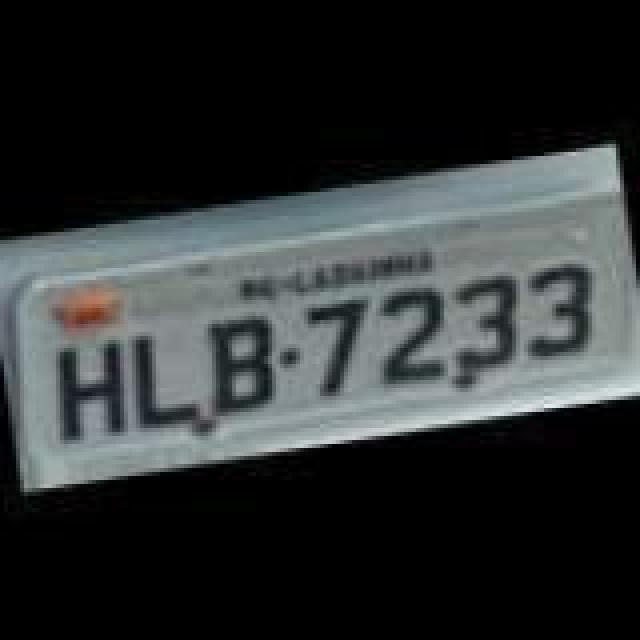2: (372, 284, 460, 384)
3: (526, 256, 610, 360), (446, 274, 530, 378)
7: (296, 296, 376, 408)
B: (198, 316, 282, 424)
H: (50, 332, 138, 444)
L: (128, 322, 212, 434)
